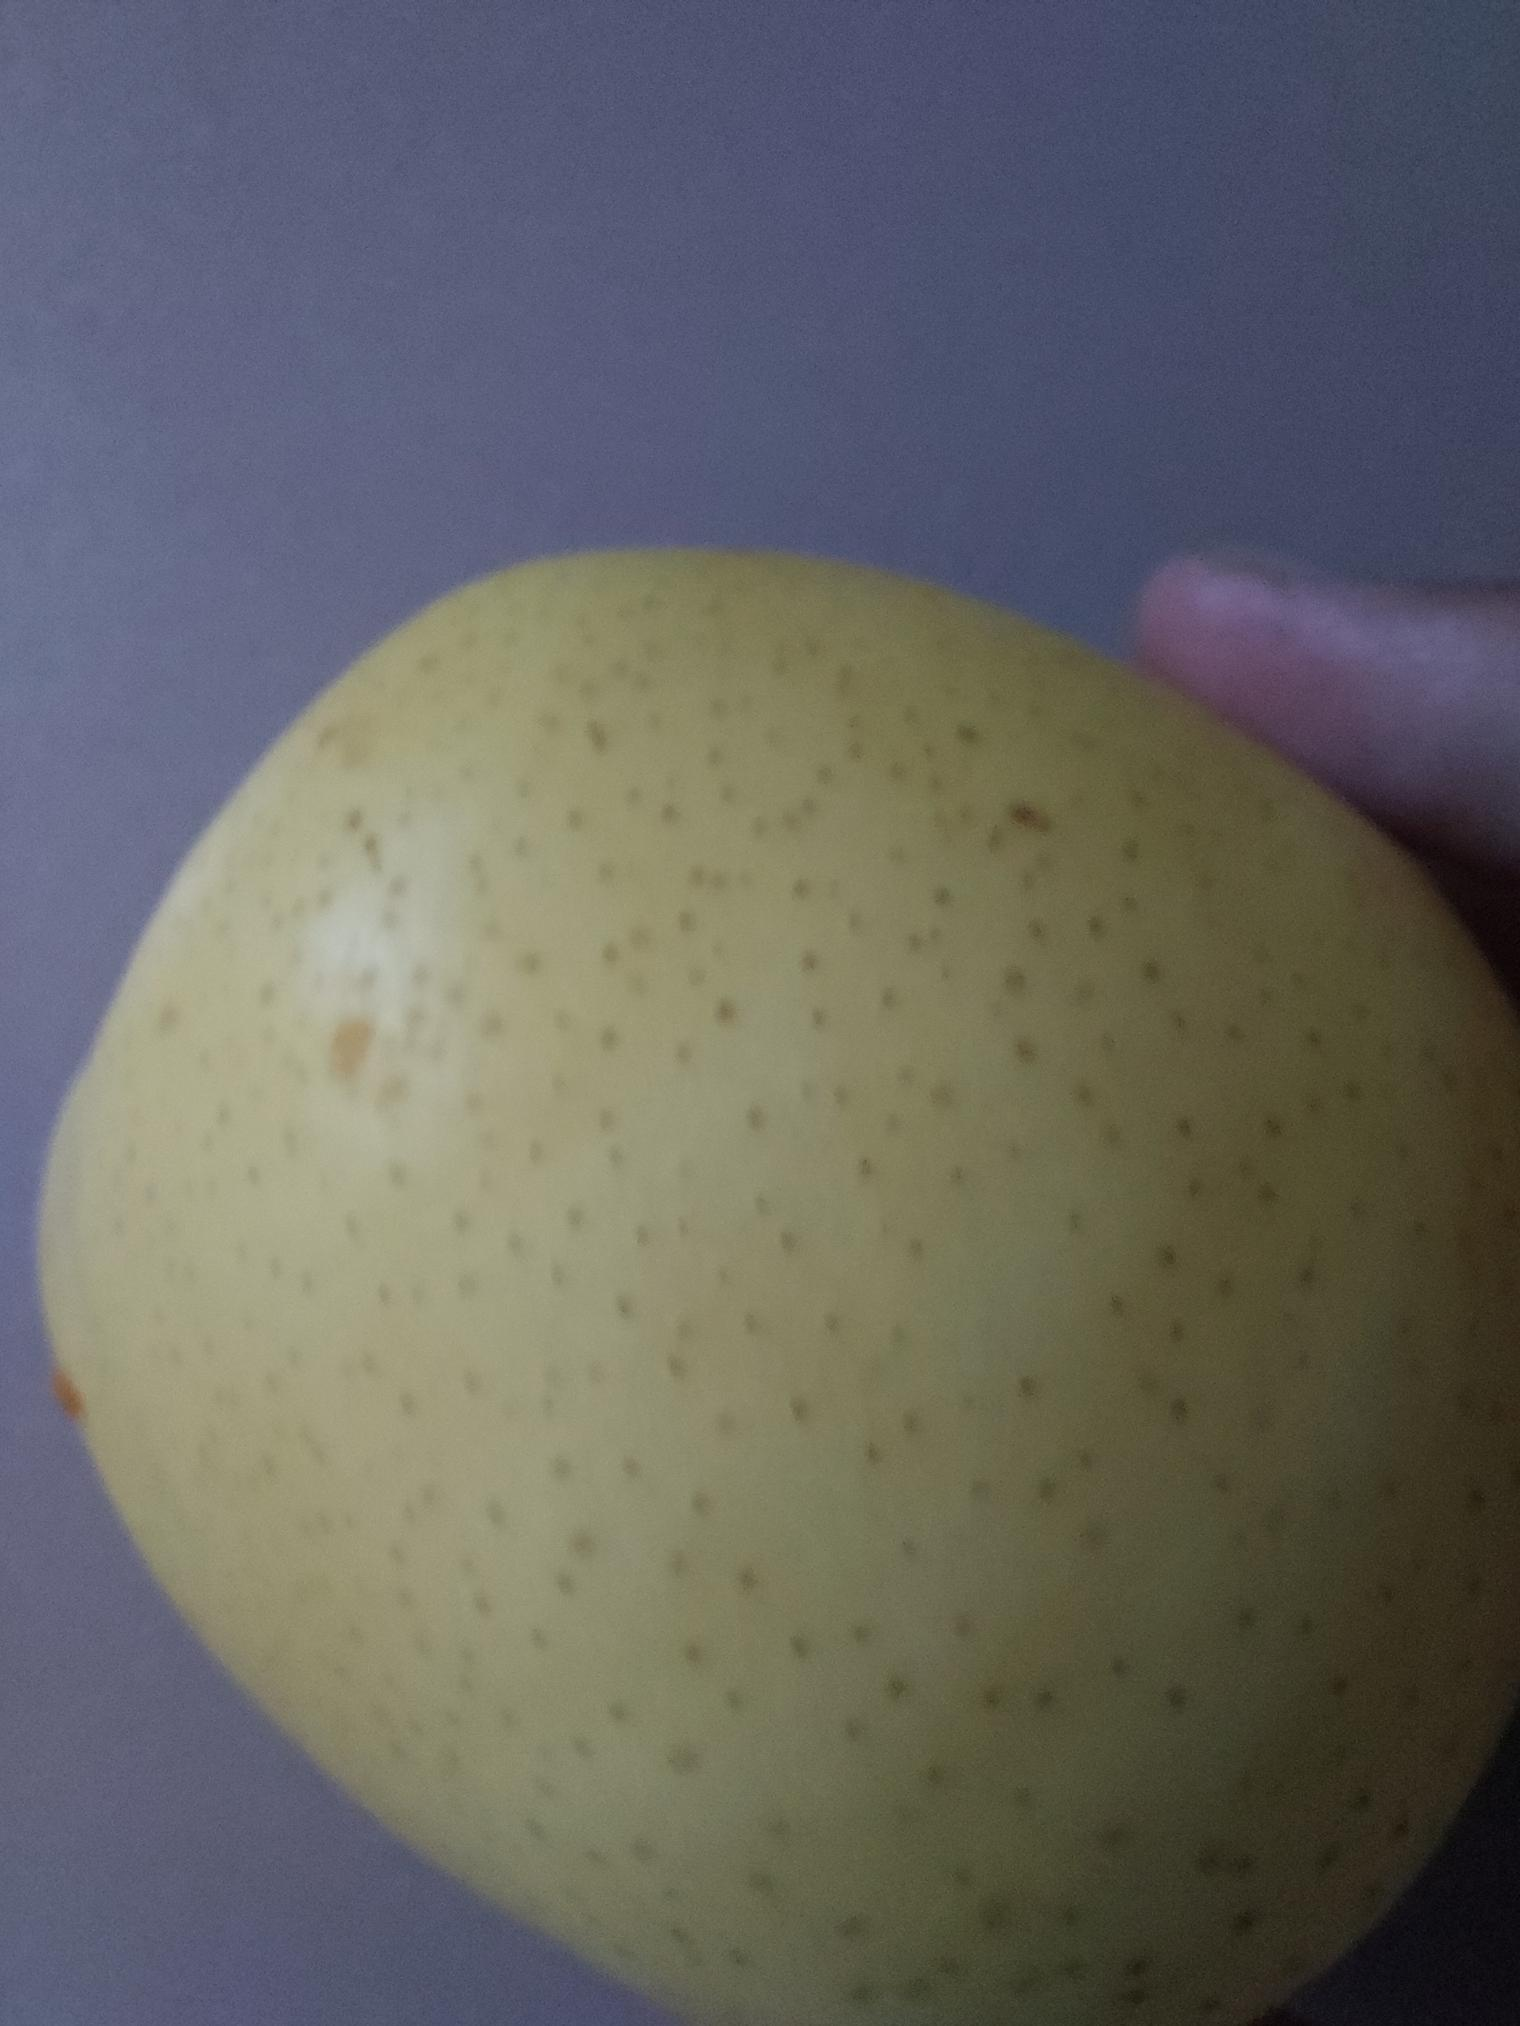Good Pear: (30, 541, 1520, 2026)
